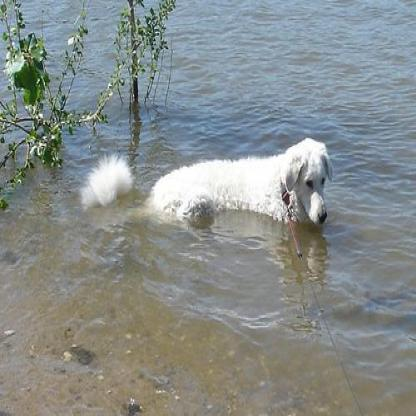kuvasz: (80, 134, 332, 230)
